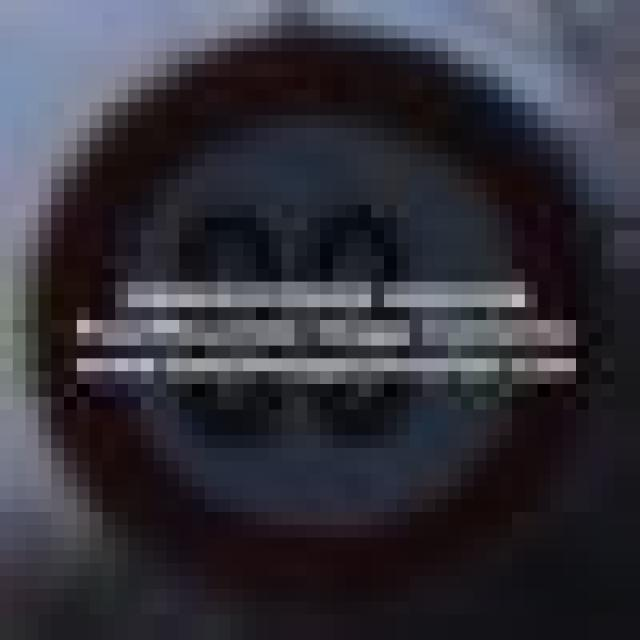speed_limit_50: (26, 39, 602, 564)
